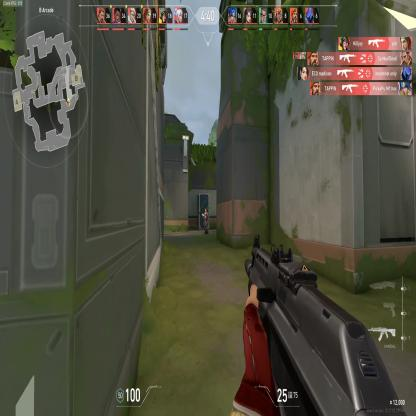enemy: (201, 208, 209, 235)
